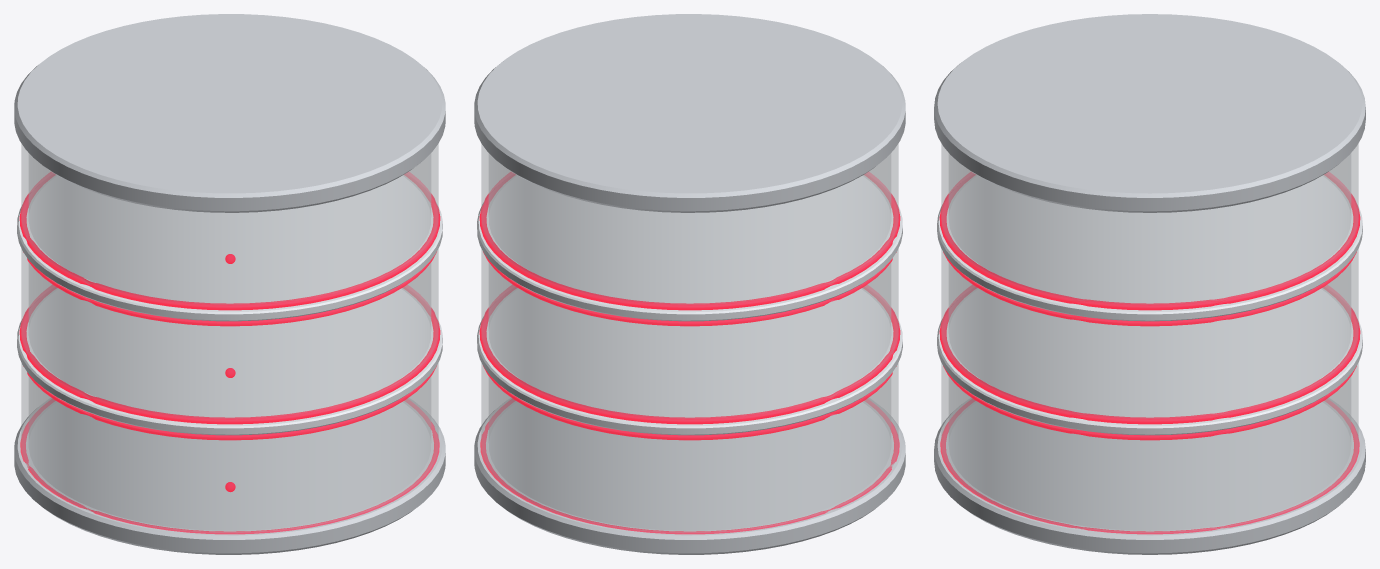
File: 11-database.glb
3 renders of one model, left to right at view 1: azimuth 30°, elevation 25°; view 2: azimuth 150°, elevation 25°; view 3: azimuth 270°, elevation 25°, orthographic.
Visible parts, largest first — view 1: BC clear optical glass, BC satin silver metal, BC polished silver metal, BC neon red glass edge; view 2: BC clear optical glass, BC satin silver metal, BC polished silver metal, BC neon red glass edge; view 3: BC clear optical glass, BC satin silver metal, BC polished silver metal, BC neon red glass edge.
Boxes of the visible parts, x1,y1,x2,y2 form: BC clear optical glass: (21,144,438,533); BC satin silver metal: (14,14,445,554); BC polished silver metal: (17,175,442,435); BC neon red glass edge: (19,172,440,534); BC clear optical glass: (481,144,898,533); BC satin silver metal: (474,14,905,554); BC polished silver metal: (477,175,902,435); BC neon red glass edge: (479,172,900,534); BC clear optical glass: (941,144,1358,532); BC satin silver metal: (934,14,1365,554); BC polished silver metal: (937,175,1362,435); BC neon red glass edge: (939,172,1360,534).
Size of the model in its own units: 1.51 by 1.39 by 1.51.
